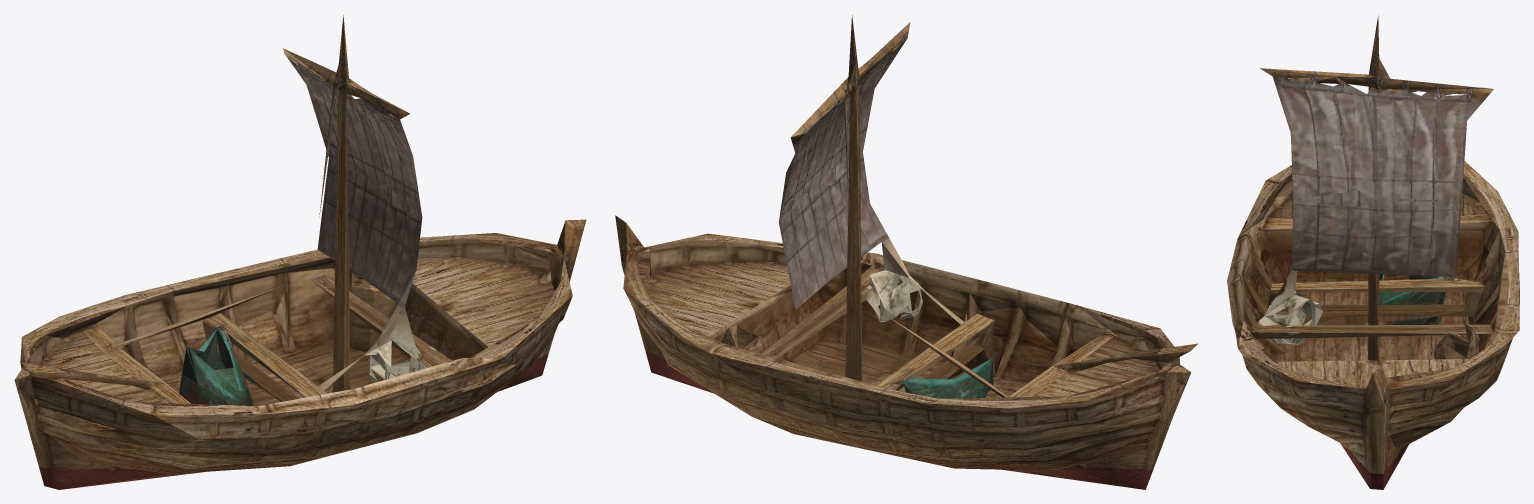
File: fishing_boat.glb
3 views of the same model, side by side, from view 1: azimuth 30°, elevation 25°; view 2: azimuth 150°, elevation 25°; view 3: azimuth 270°, elevation 25° (orthographic). The views are drawn at different scales.
Visible parts, largest first — view 1: fishing_boat_export; view 2: fishing_boat_export; view 3: fishing_boat_export.
Part boxes in pixels (x1,y1,x2,y2): fishing_boat_export: (14, 15, 586, 489); fishing_boat_export: (615, 15, 1197, 489); fishing_boat_export: (1227, 15, 1519, 489).
Bounding box in the file's own units: 12 × 8.15 × 5.59.
Materials: 1 (1 with a texture image).
